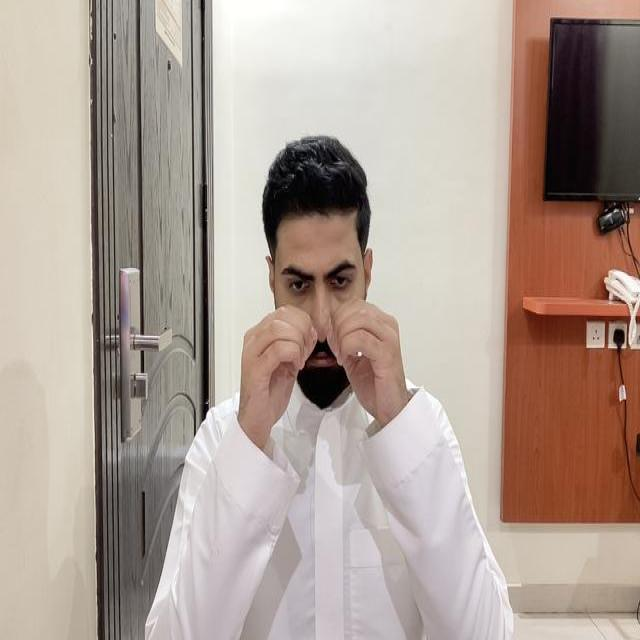analysis: (237, 294, 413, 442)
